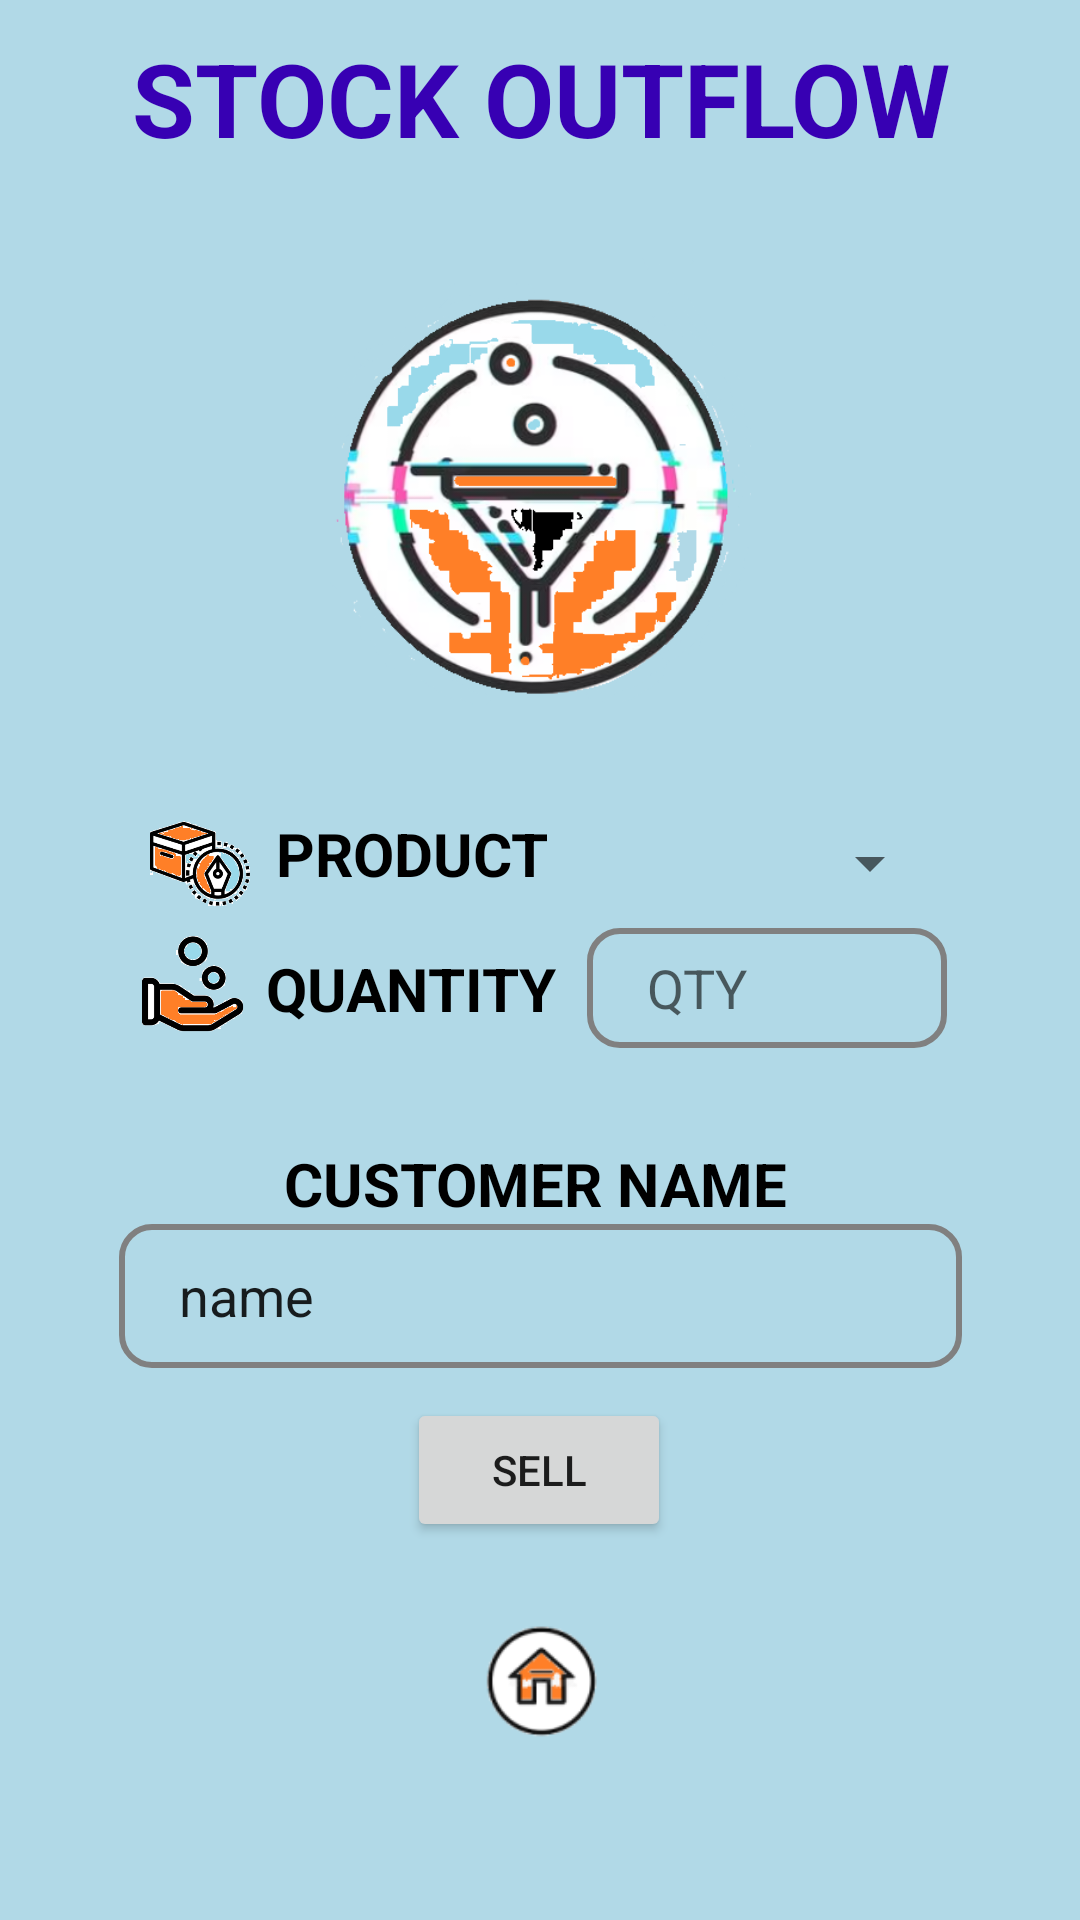

Point at icon controls on the screen. Image size 1080×1920, points as point (x, y).
comodity: point (200, 863)
